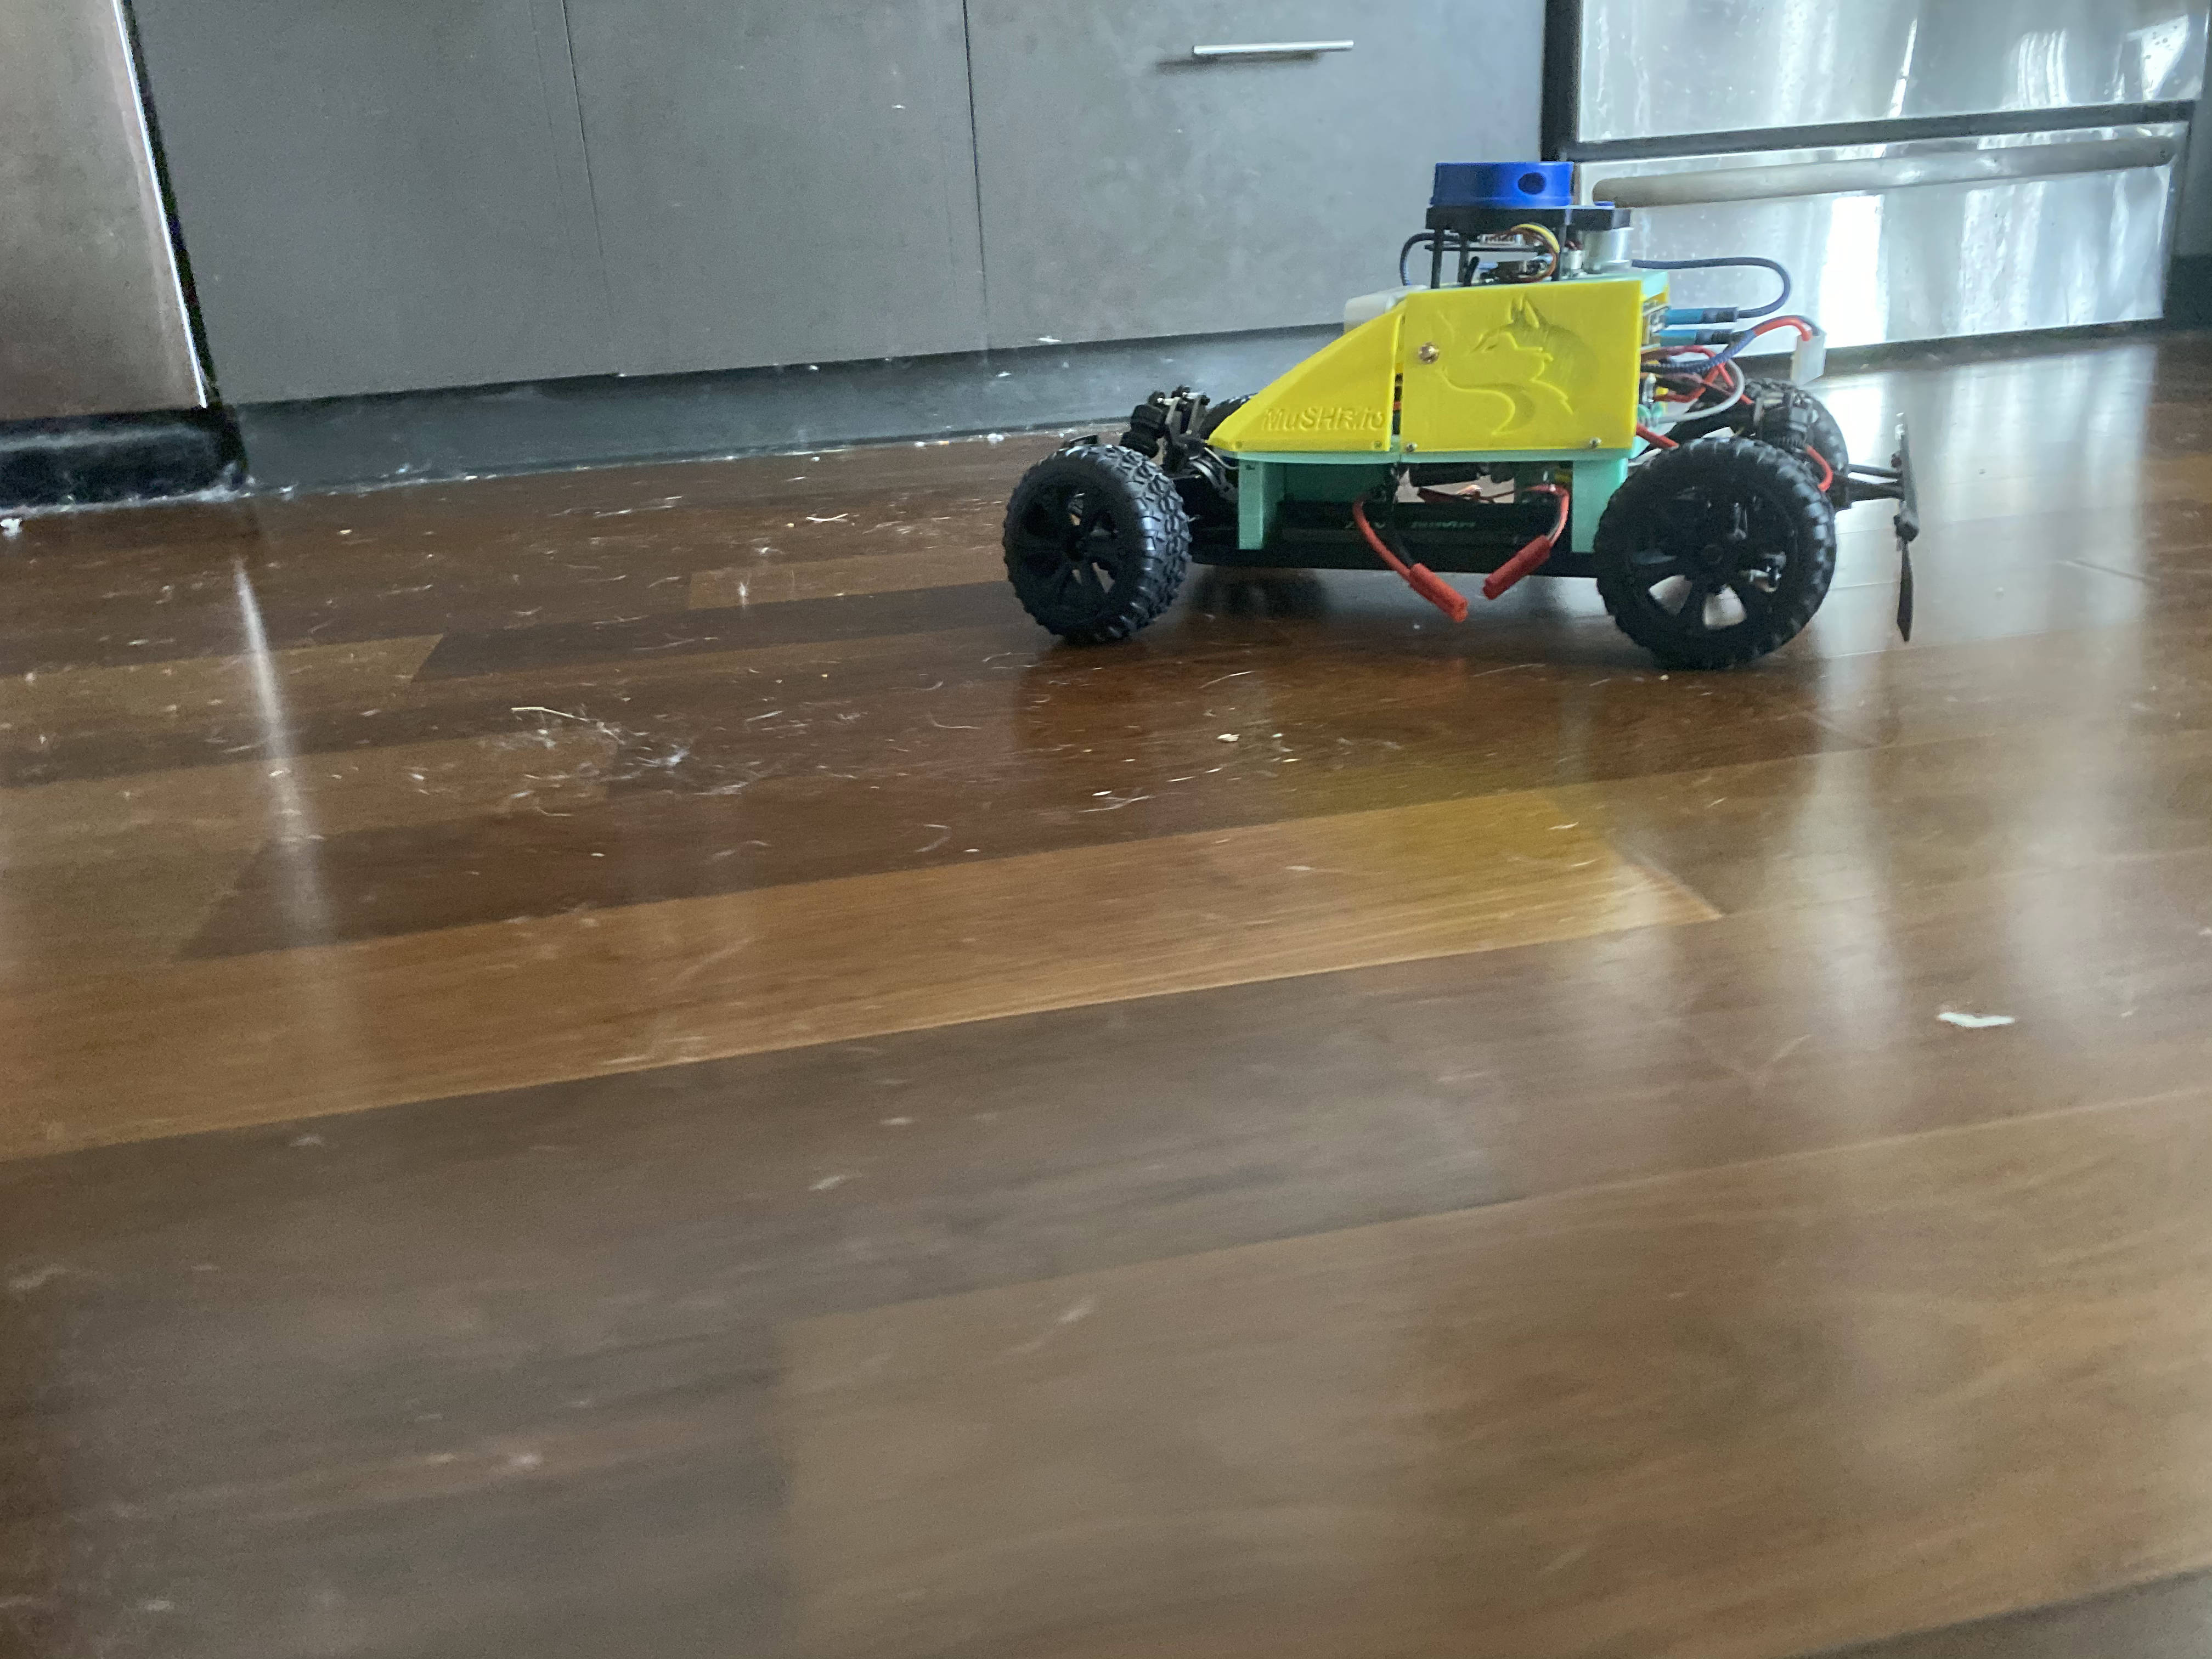mushr_car: (946, 139, 1973, 685)
